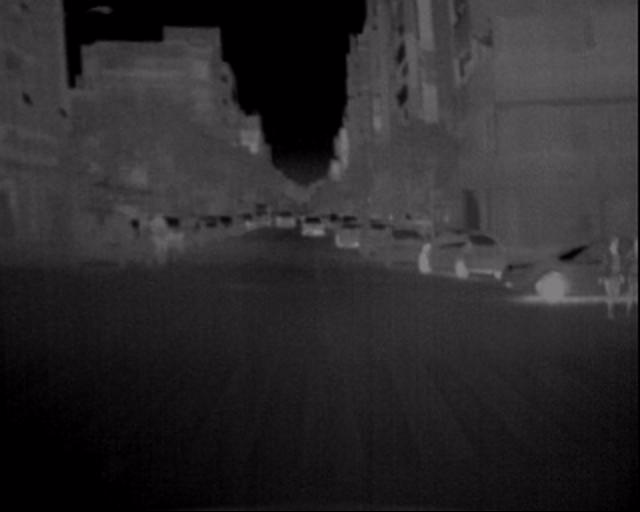person: (595, 221, 638, 324), (144, 202, 172, 269), (133, 210, 157, 271)
